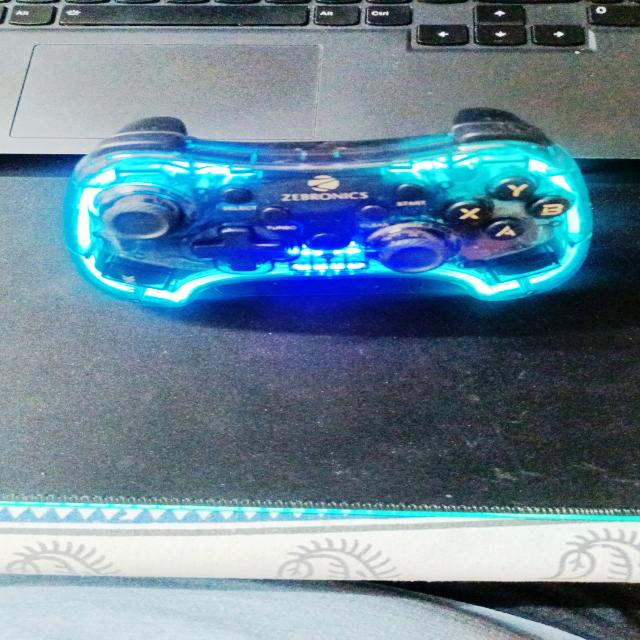gamepad: (60, 107, 595, 308)
